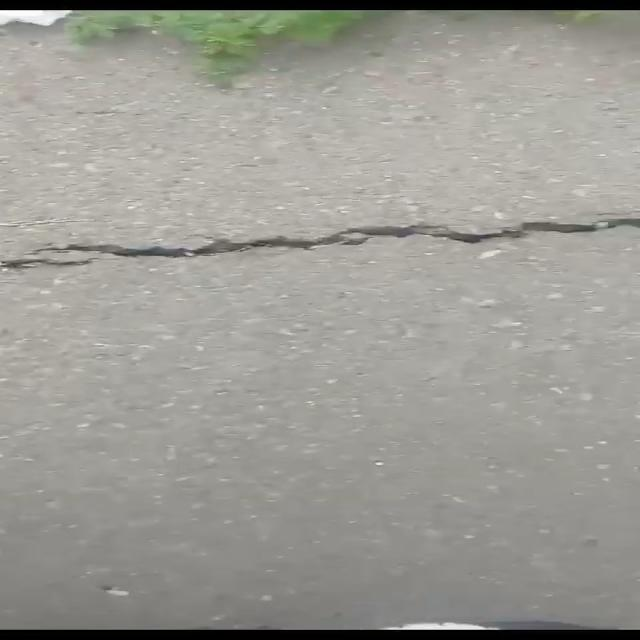Melintang: (0, 186, 640, 290)
